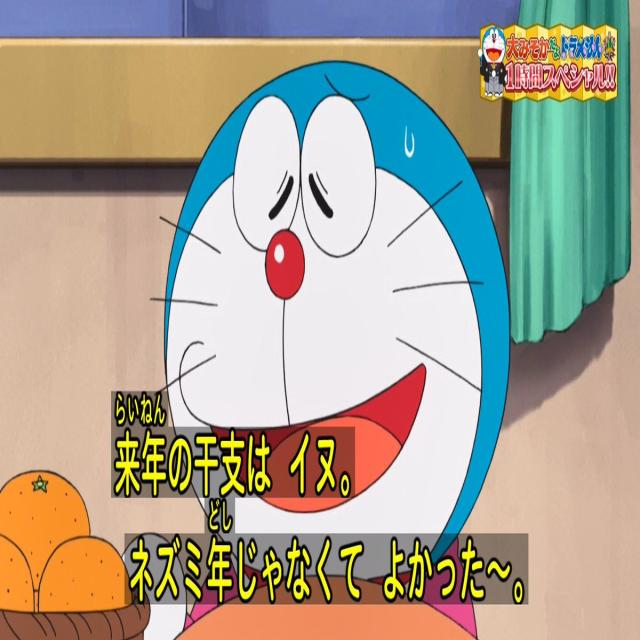doraemon: (143, 34, 526, 639)
